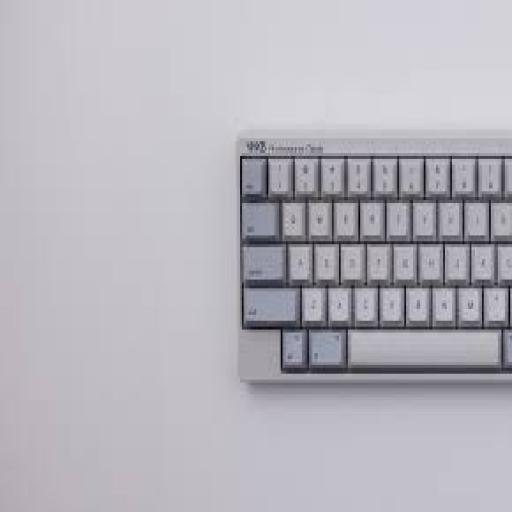KEYBOARD-2: (238, 129, 510, 380)
